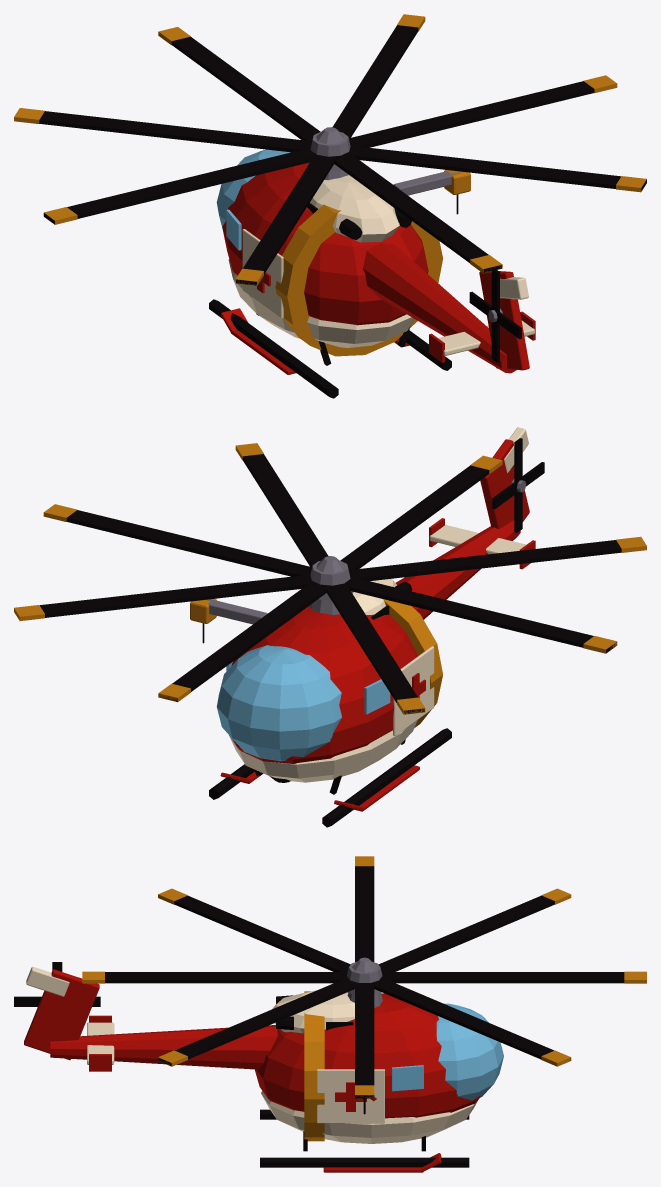
File: rs_heli.glb
3 renders of one model, top to bottom at view 1: azimuth 30°, elevation 25°; view 2: azimuth 150°, elevation 25°; view 3: azimuth 270°, elevation 25°, orthographic. The views are drawn at different scales.
Visible parts, largest first — view 1: heli_body, heli_rotor, heli_tail_rotor; view 2: heli_body, heli_rotor, heli_tail_rotor; view 3: heli_body, heli_rotor, heli_tail_rotor.
Part boxes in pixels (x1,y1,x2,y2): heli_body: [209, 149, 535, 398]; heli_rotor: [14, 14, 646, 285]; heli_tail_rotor: [469, 268, 521, 362]; heli_body: [190, 427, 535, 827]; heli_rotor: [14, 443, 646, 714]; heli_tail_rotor: [492, 438, 544, 532]; heli_body: [24, 966, 503, 1172]; heli_rotor: [82, 856, 646, 1098]; heli_tail_rotor: [14, 962, 100, 1006].
Bounding box in the file's own units: 12.4 × 4.48 × 13.9.
